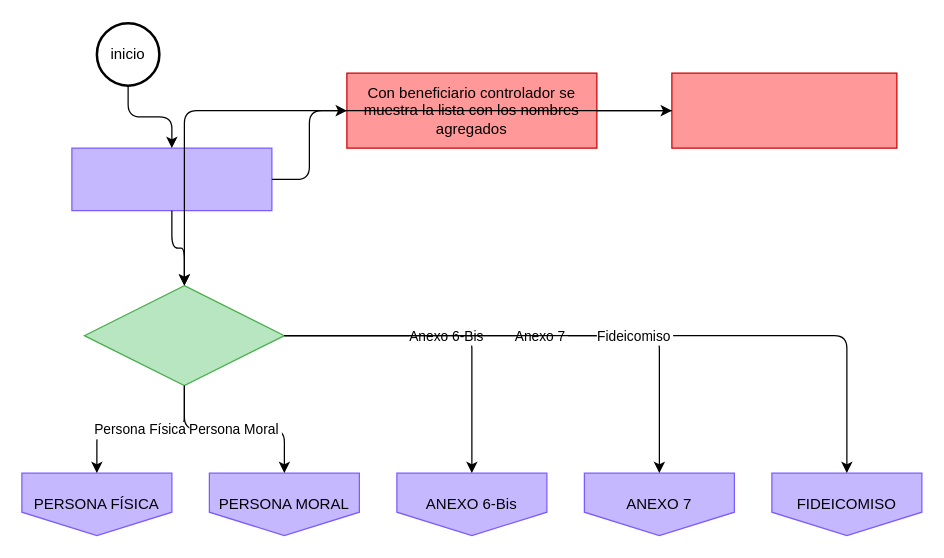
Image size: 944x558. Some labels were removed from this diagram. The centre of each missing label's shape, as x and y in pixels:
"Cliente / Usuario" goes at point 171,179.
"Completar anexo de beneficiario controlador" goes at point 784,110.
"Tipo de PERSONA" goes at point 183,335.
